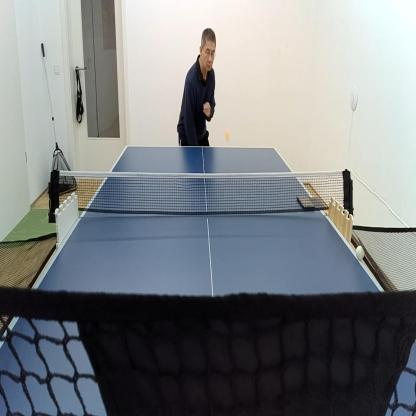Ball: (355, 244, 366, 261), (224, 128, 231, 142)
